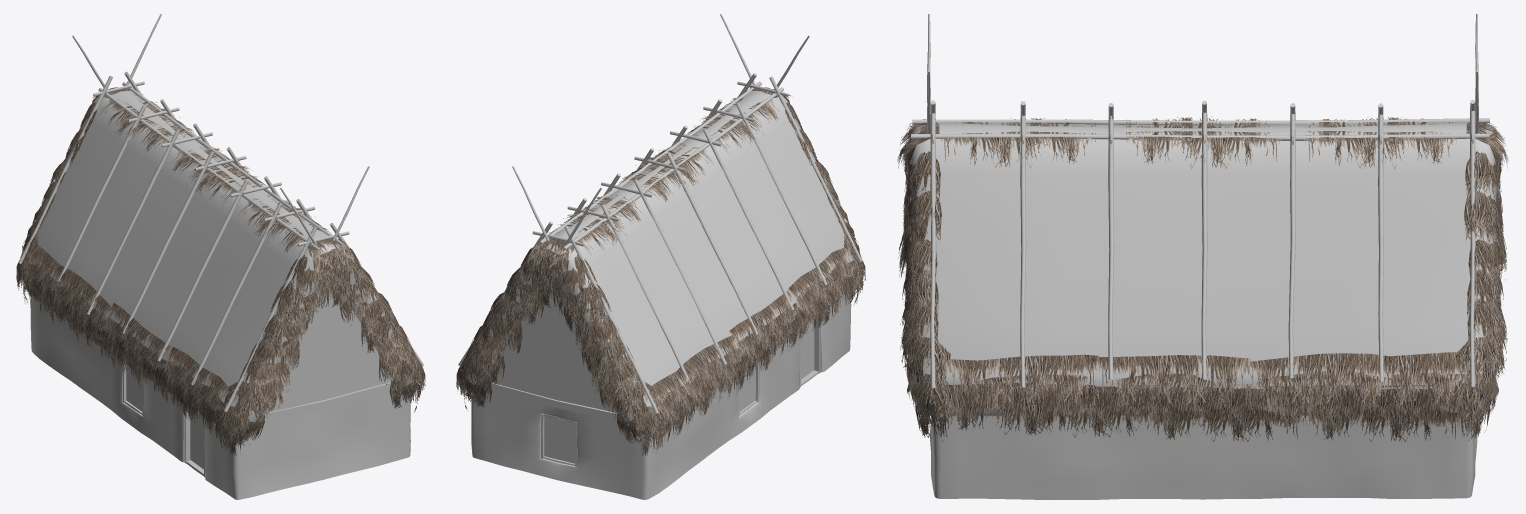
The model's file is House.fbx.
3 renders of one model, left to right at view 1: azimuth 30°, elevation 25°; view 2: azimuth 150°, elevation 25°; view 3: azimuth 270°, elevation 25°, orthographic. The views are drawn at different scales.
Parts seen in each view (by area): view 1: ThatchBase, ThatchStraws, Walls, Loft, Roofsticks, RoofAlong, Roofmiddle, Cube, RoofHorns, Door, Doorframe, Window2; view 2: ThatchBase, ThatchStraws, Walls, Loft, Roofsticks, RoofAlong, Window, Roofmiddle, Cube, RoofHorns, Door, Doorframe (+2 smaller); view 3: ThatchBase, ThatchStraws, Walls, Roofsticks, RoofAlong, RoofHorns.
Part boxes in pixels (box(x1,y1,x2,y2)): ThatchBase: box(34, 89, 417, 435); ThatchStraws: box(16, 87, 425, 455); Walls: box(30, 297, 410, 499); Loft: box(265, 285, 392, 412); Roofsticks: box(18, 71, 423, 411); RoofAlong: box(98, 82, 344, 251); Roofmiddle: box(93, 81, 349, 246); Cube: box(264, 382, 397, 420); RoofHorns: box(72, 14, 369, 245); Door: box(190, 413, 203, 469); Doorframe: box(184, 412, 205, 477); Window2: box(126, 364, 142, 411); ThatchBase: box(465, 88, 854, 438); ThatchStraws: box(456, 87, 865, 455); Walls: box(471, 294, 851, 499); Loft: box(490, 292, 616, 412); Roofsticks: box(458, 73, 862, 413); RoofAlong: box(538, 81, 783, 250); Window: box(544, 416, 575, 463); Roofmiddle: box(532, 81, 788, 246); Cube: box(486, 382, 617, 420); RoofHorns: box(512, 14, 809, 245); Door: box(801, 320, 814, 378); Doorframe: box(799, 319, 820, 387); ThatchBase: box(910, 122, 1495, 416); ThatchStraws: box(897, 116, 1508, 442); Walls: box(930, 415, 1477, 499); Roofsticks: box(930, 99, 1475, 388); RoofAlong: box(911, 118, 1489, 140); RoofHorns: box(927, 14, 1478, 133).
Size of the model in its own units: 591 by 816 by 1143.
